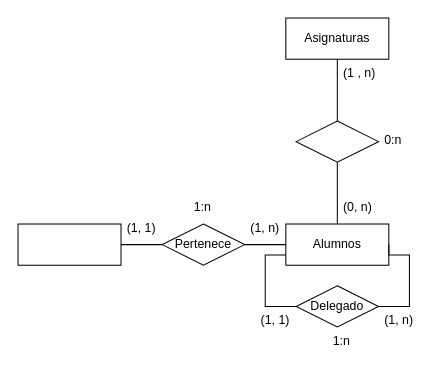
Some shapes in this 448 by 379 pixel diagram are drawn without their labels. The shapes that lost their labels are listed below. From the top down, each one's box as (x1, y1, x2, y2) in pixels, then its label:
(295, 120, 379, 162): Cursan
(17, 223, 121, 265): Cursos
